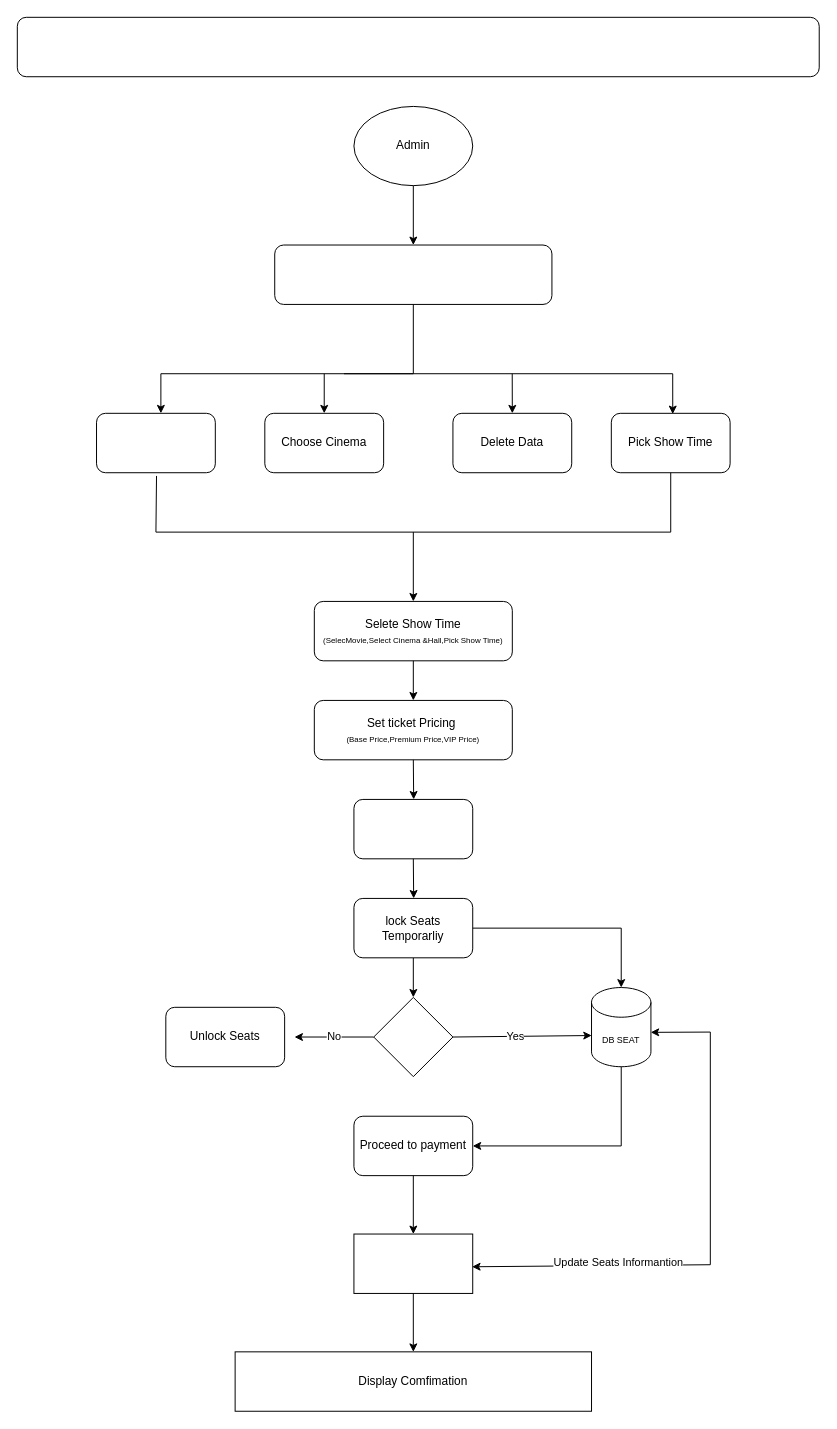
The diagram is 837 pixels wide and 1429 high, and some of its shapes have lost their labels. Here are the shapes that lost their labels. From the top down, the box of each, then its label:
(16, 16, 819, 77): SEAT BOOKING MANAGEMENTS
(274, 244, 552, 304): Open Seat Booking Management Page
(96, 412, 215, 473): Search Movie
(353, 798, 473, 859): Select Seats
(373, 996, 453, 1077): Is Comfirm Booking ?
(353, 1233, 473, 1293): Update Seat Database
